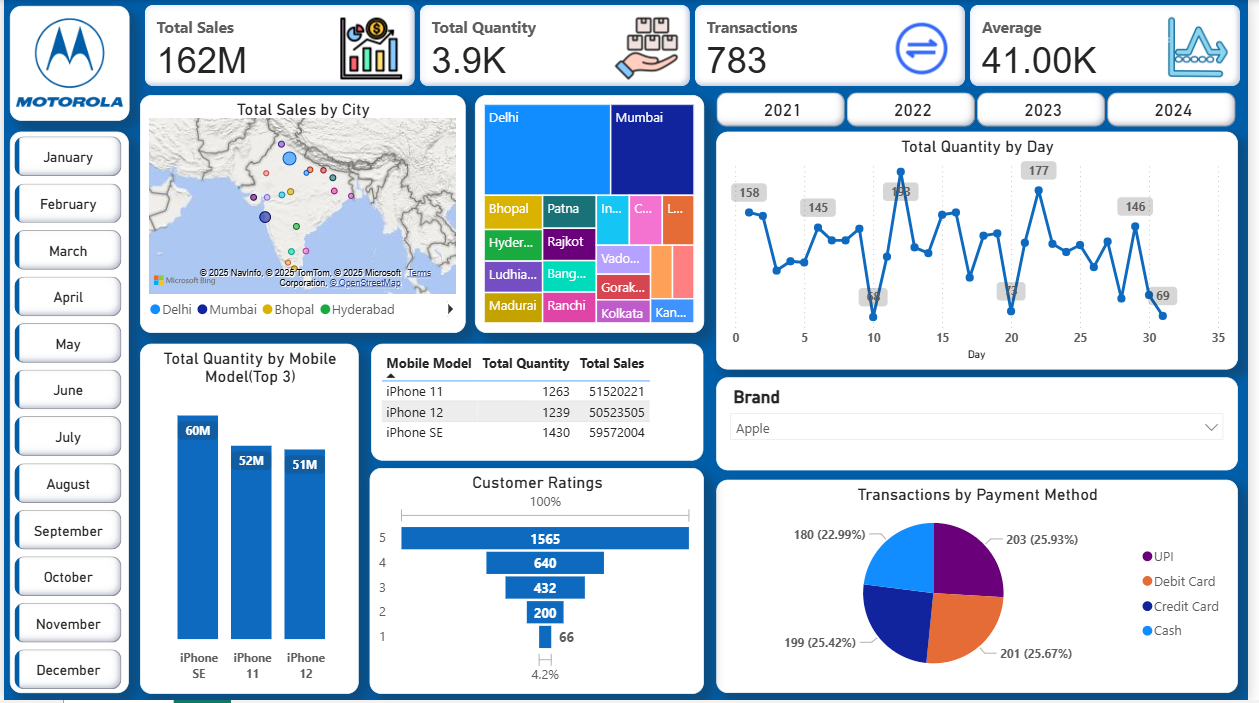

What the dashboard file says about the page in this screenshot:
{"tool":"powerbi","page":{"name":"Page 1","canvas":[1280,720],"ordinal":0},"visuals":[{"type":"shape","box":[5.7,5.7,122.8,118.6],"z":0},{"type":"image","box":[7.1,4.3,120,120],"z":1000},{"type":"shape","box":[5.4,135.1,122.5,578.1],"z":2000},{"type":"advancedSlicerVisual","fields":{"Values":["Mobile_Sales_project.Date.Variation.Date Hierarchy.Month"]},"box":[5.4,135.1,120.7,585.3],"z":3000},{"type":"cardVisual","fields":{"Data":["Mobile_Sales_project.Total Sales","Mobile_Sales_project.Total Quantity","Mobile_Sales_project.Transactions","Mobile_Sales_project.Average"]},"box":[140,0,1140.7,94.8],"z":4000},{"type":"map","title":"Total Sales by City ","fields":{"Category":["Mobile_Sales_project.City"],"Series":["Mobile_Sales_project.City"],"Size":["Mobile_Sales_project.Total Sales"]},"box":[140.5,97.2,335,244.9],"z":5000},{"type":"treemap","fields":{"Group":["Mobile_Sales_project.City"],"Values":["Mobile_Sales_project.Total Sales"]},"box":[484.4,97.2,235.9,244.9],"z":6000},{"type":"lineChart","fields":{"Category":["Mobile_Sales_project.Date.Variation.Date Hierarchy.Month","Mobile_Sales_project.Date.Variation.Date Hierarchy.Day"],"Y":["Mobile_Sales_project.Total Quantity"]},"box":[733,135.1,536.7,244.9],"z":7000},{"type":"advancedSlicerVisual","fields":{"Values":["Mobile_Sales_project.Date.Variation.Date Hierarchy.Year"]},"box":[728.3,90.3,544.8,45.1],"z":8000},{"type":"clusteredColumnChart","title":"Total Quantity by Mobile Model(Top 3)","fields":{"Category":["Mobile_Sales_project.Mobile Model"],"Y":["Mobile_Sales_project.Total Sales"]},"box":[140.5,353,225.1,360.2],"z":9000},{"type":"pieChart","fields":{"Category":["Mobile_Sales_project.Payment Method"],"Y":["Mobile_Sales_project.Transactions"]},"box":[733,493.4,536.7,219.7],"z":10000},{"type":"funnel","title":"Customer Ratings","fields":{"Category":["Mobile_Sales_project.Customer Ratings"],"Y":["Sum(Mobile_Sales_project.Customer Ratings)"]},"box":[376.4,480.8,344,232.3],"z":11000},{"type":"tableEx","fields":{"Values":["Mobile_Sales_project.Mobile Model","Mobile_Sales_project.Total Quantity","Mobile_Sales_project.Total Sales"]},"box":[378.2,353,342.2,120.7],"z":12000},{"type":"slicer","fields":{"Values":["Mobile_Sales_project.Brand"]},"box":[733,389,536.6,95.4],"z":13000}]}

Visuals, with their boxes in screenshot pixels (x1, y1, x2, y2), scaled from the page's 1280x720 canvas onto the 1259x703 screenshot:
shape: box(6, 6, 126, 121)
image: box(7, 4, 125, 121)
shape: box(5, 132, 126, 696)
advancedSlicerVisual - Mobile_Sales_project.Date.Variation.Date Hierarchy.Month: box(5, 132, 124, 702)
cardVisual - Mobile_Sales_project.Total Sales x Mobile_Sales_project.Total Quantity: box(138, 0, 1258, 93)
"Total Sales by City " map: box(138, 95, 468, 334)
treemap - Mobile_Sales_project.City x Mobile_Sales_project.Total Sales: box(476, 95, 708, 334)
lineChart - Mobile_Sales_project.Date.Variation.Date Hierarchy.Month x Mobile_Sales_project.Date.Variation.Date Hierarchy.Day: box(721, 132, 1249, 371)
advancedSlicerVisual - Mobile_Sales_project.Date.Variation.Date Hierarchy.Year: box(716, 88, 1252, 132)
"Total Quantity by Mobile Model(Top 3)" clusteredColumnChart: box(138, 345, 360, 696)
pieChart - Mobile_Sales_project.Payment Method x Mobile_Sales_project.Transactions: box(721, 482, 1249, 696)
"Customer Ratings" funnel: box(370, 469, 709, 696)
tableEx - Mobile_Sales_project.Mobile Model x Mobile_Sales_project.Total Quantity: box(372, 345, 709, 463)
slicer - Mobile_Sales_project.Brand: box(721, 380, 1249, 473)
